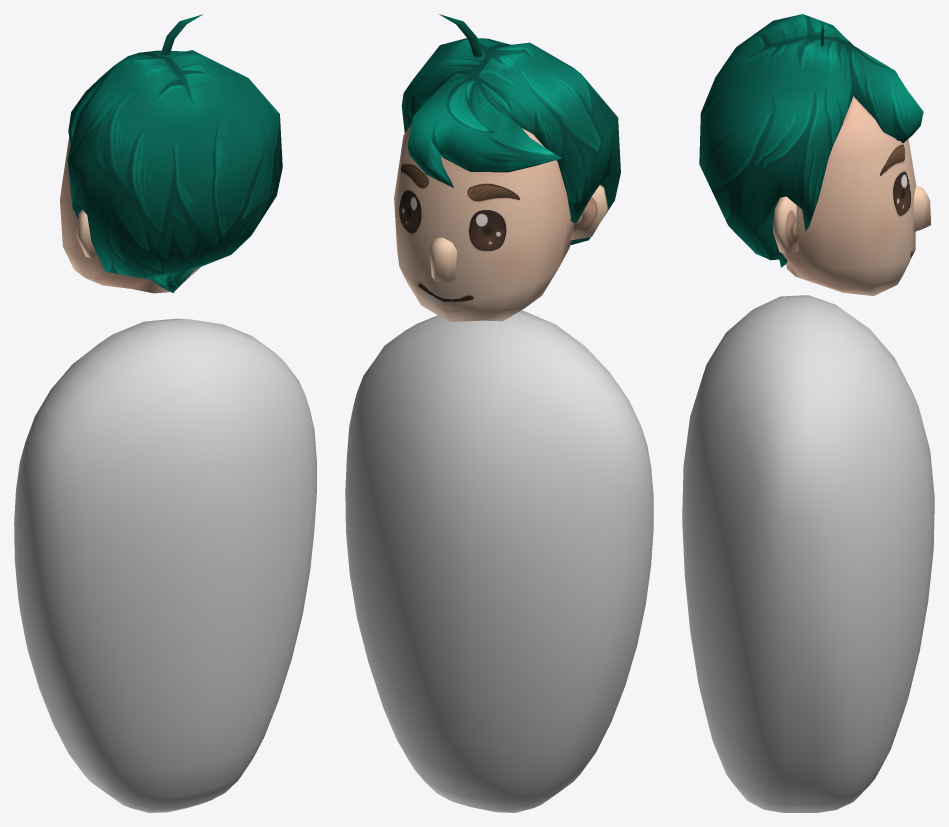
The model's file is curious_boy_5.glb.
The picture shows the model from 3 angles, left to right: view 1: azimuth 30°, elevation 25°; view 2: azimuth 150°, elevation 25°; view 3: azimuth 270°, elevation 25°; orthographic projection. The views are drawn at different scales.
Visible parts, largest first — view 1: body, head; view 2: body, head; view 3: body, head.
Boxes of the visible parts, x1,y1,x2,y2 form: body: (14,318,316,812); head: (60,14,282,293); body: (345,310,653,812); head: (394,14,620,321); body: (682,295,934,812); head: (699,14,931,295).
Bounding box in the file's own units: 0.5015 × 1.31 × 0.3775.
3 materials, 1 textured.
